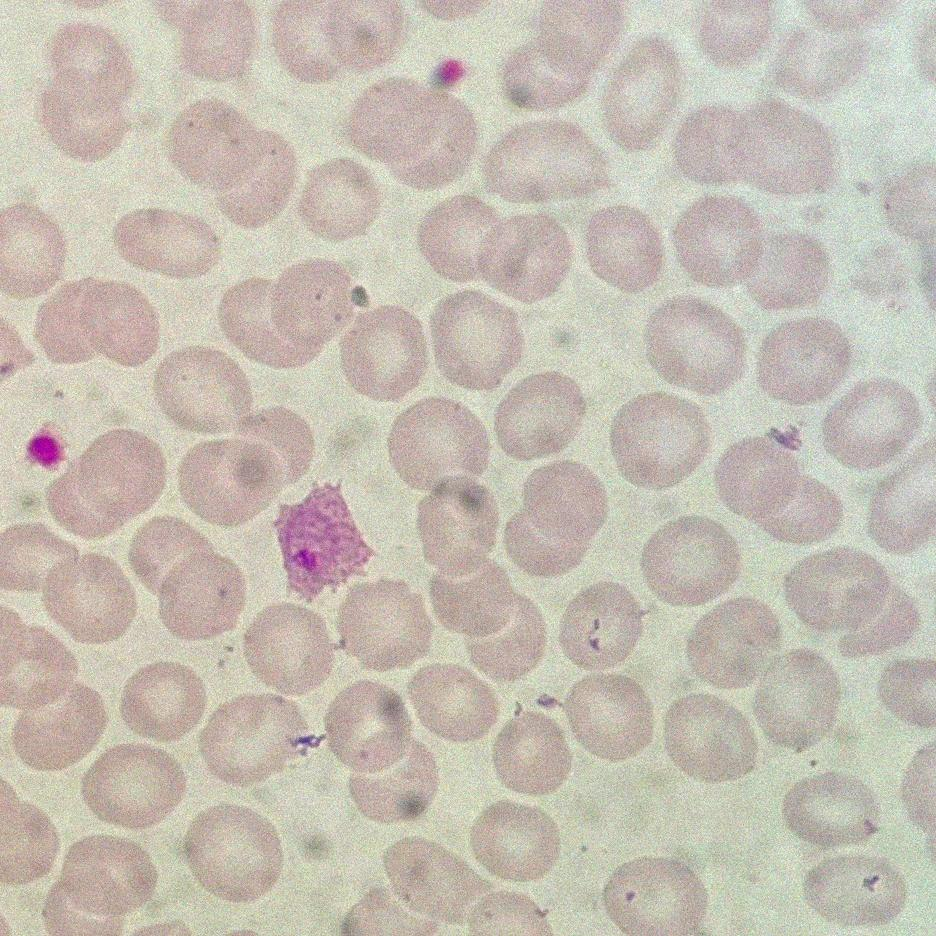Infected: (268, 481, 375, 601)
Uninfected: (167, 97, 301, 226), (677, 100, 836, 199), (346, 81, 476, 187), (45, 428, 166, 540), (714, 436, 836, 545), (502, 463, 607, 576), (35, 276, 157, 369), (480, 121, 608, 209), (785, 549, 898, 642), (199, 692, 309, 787), (49, 832, 159, 926), (177, 435, 287, 528), (181, 805, 283, 904), (640, 297, 743, 394), (267, 259, 366, 359), (385, 396, 488, 491), (610, 391, 711, 487), (669, 197, 768, 292), (598, 45, 689, 147), (639, 514, 738, 607), (688, 597, 784, 692), (335, 580, 432, 674), (411, 477, 503, 575), (153, 345, 254, 434), (240, 603, 336, 696), (476, 210, 572, 303), (382, 834, 489, 917), (82, 743, 186, 828), (430, 290, 522, 386), (819, 379, 917, 468), (42, 553, 137, 644), (662, 693, 757, 783), (321, 681, 416, 771), (40, 70, 133, 161), (12, 681, 106, 770), (753, 653, 840, 749), (494, 372, 587, 461), (559, 581, 650, 671), (561, 673, 654, 761), (218, 276, 305, 370), (297, 0, 404, 76), (158, 553, 247, 644), (415, 193, 506, 282), (340, 307, 428, 398), (755, 318, 848, 404), (524, 1, 626, 79), (602, 858, 703, 936), (404, 662, 500, 744), (115, 207, 221, 281), (740, 224, 830, 311), (428, 559, 523, 640), (784, 769, 880, 848), (469, 800, 561, 882), (164, 1, 259, 80), (805, 850, 906, 924), (464, 591, 547, 681), (120, 660, 208, 743), (584, 203, 664, 293), (346, 746, 438, 823), (490, 708, 573, 793), (297, 161, 384, 241), (128, 512, 213, 593), (3, 617, 80, 705), (44, 21, 131, 95), (242, 406, 318, 487), (499, 45, 586, 114), (692, 1, 777, 69), (273, 797, 348, 866)
